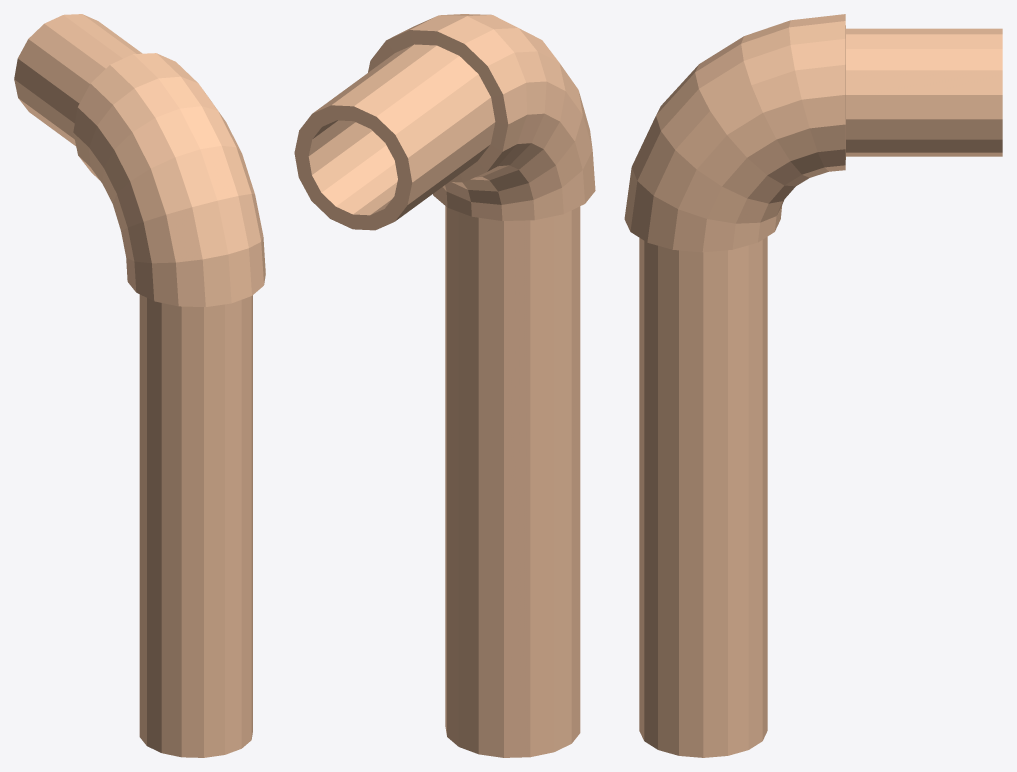
The model's file is scrap_pipe.fbx.
The picture shows the model from 3 angles, left to right: view 1: azimuth 30°, elevation 25°; view 2: azimuth 150°, elevation 25°; view 3: azimuth 270°, elevation 25°; orthographic projection. The views are drawn at different scales.
Visible parts, largest first — view 1: Pipe; view 2: Pipe; view 3: Pipe.
Part boxes in pixels (x1,y1,x2,y2): Pipe: (14, 14, 265, 757); Pipe: (294, 14, 595, 757); Pipe: (624, 14, 1002, 757).
Size of the model in its own units: 141 by 58.86 by 293.
